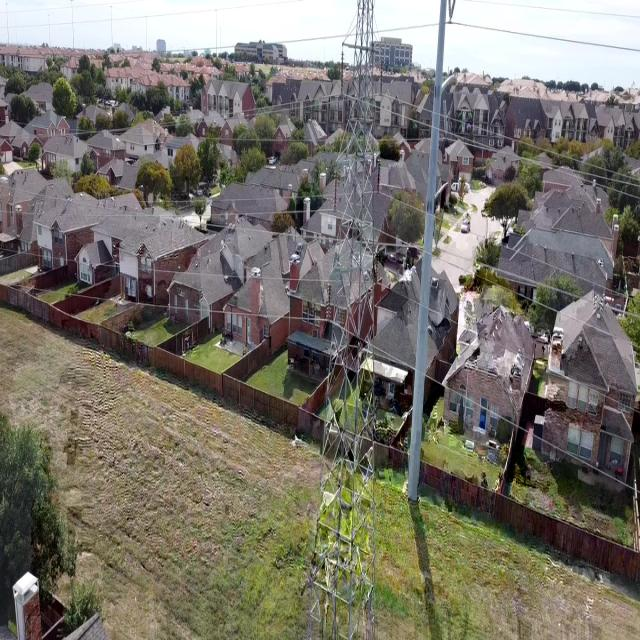杆塔: (305, 0, 384, 640)
正常绝缘子: (324, 279, 334, 322), (338, 46, 346, 94), (375, 154, 383, 196), (332, 167, 339, 214), (378, 52, 384, 96), (374, 247, 381, 282)
